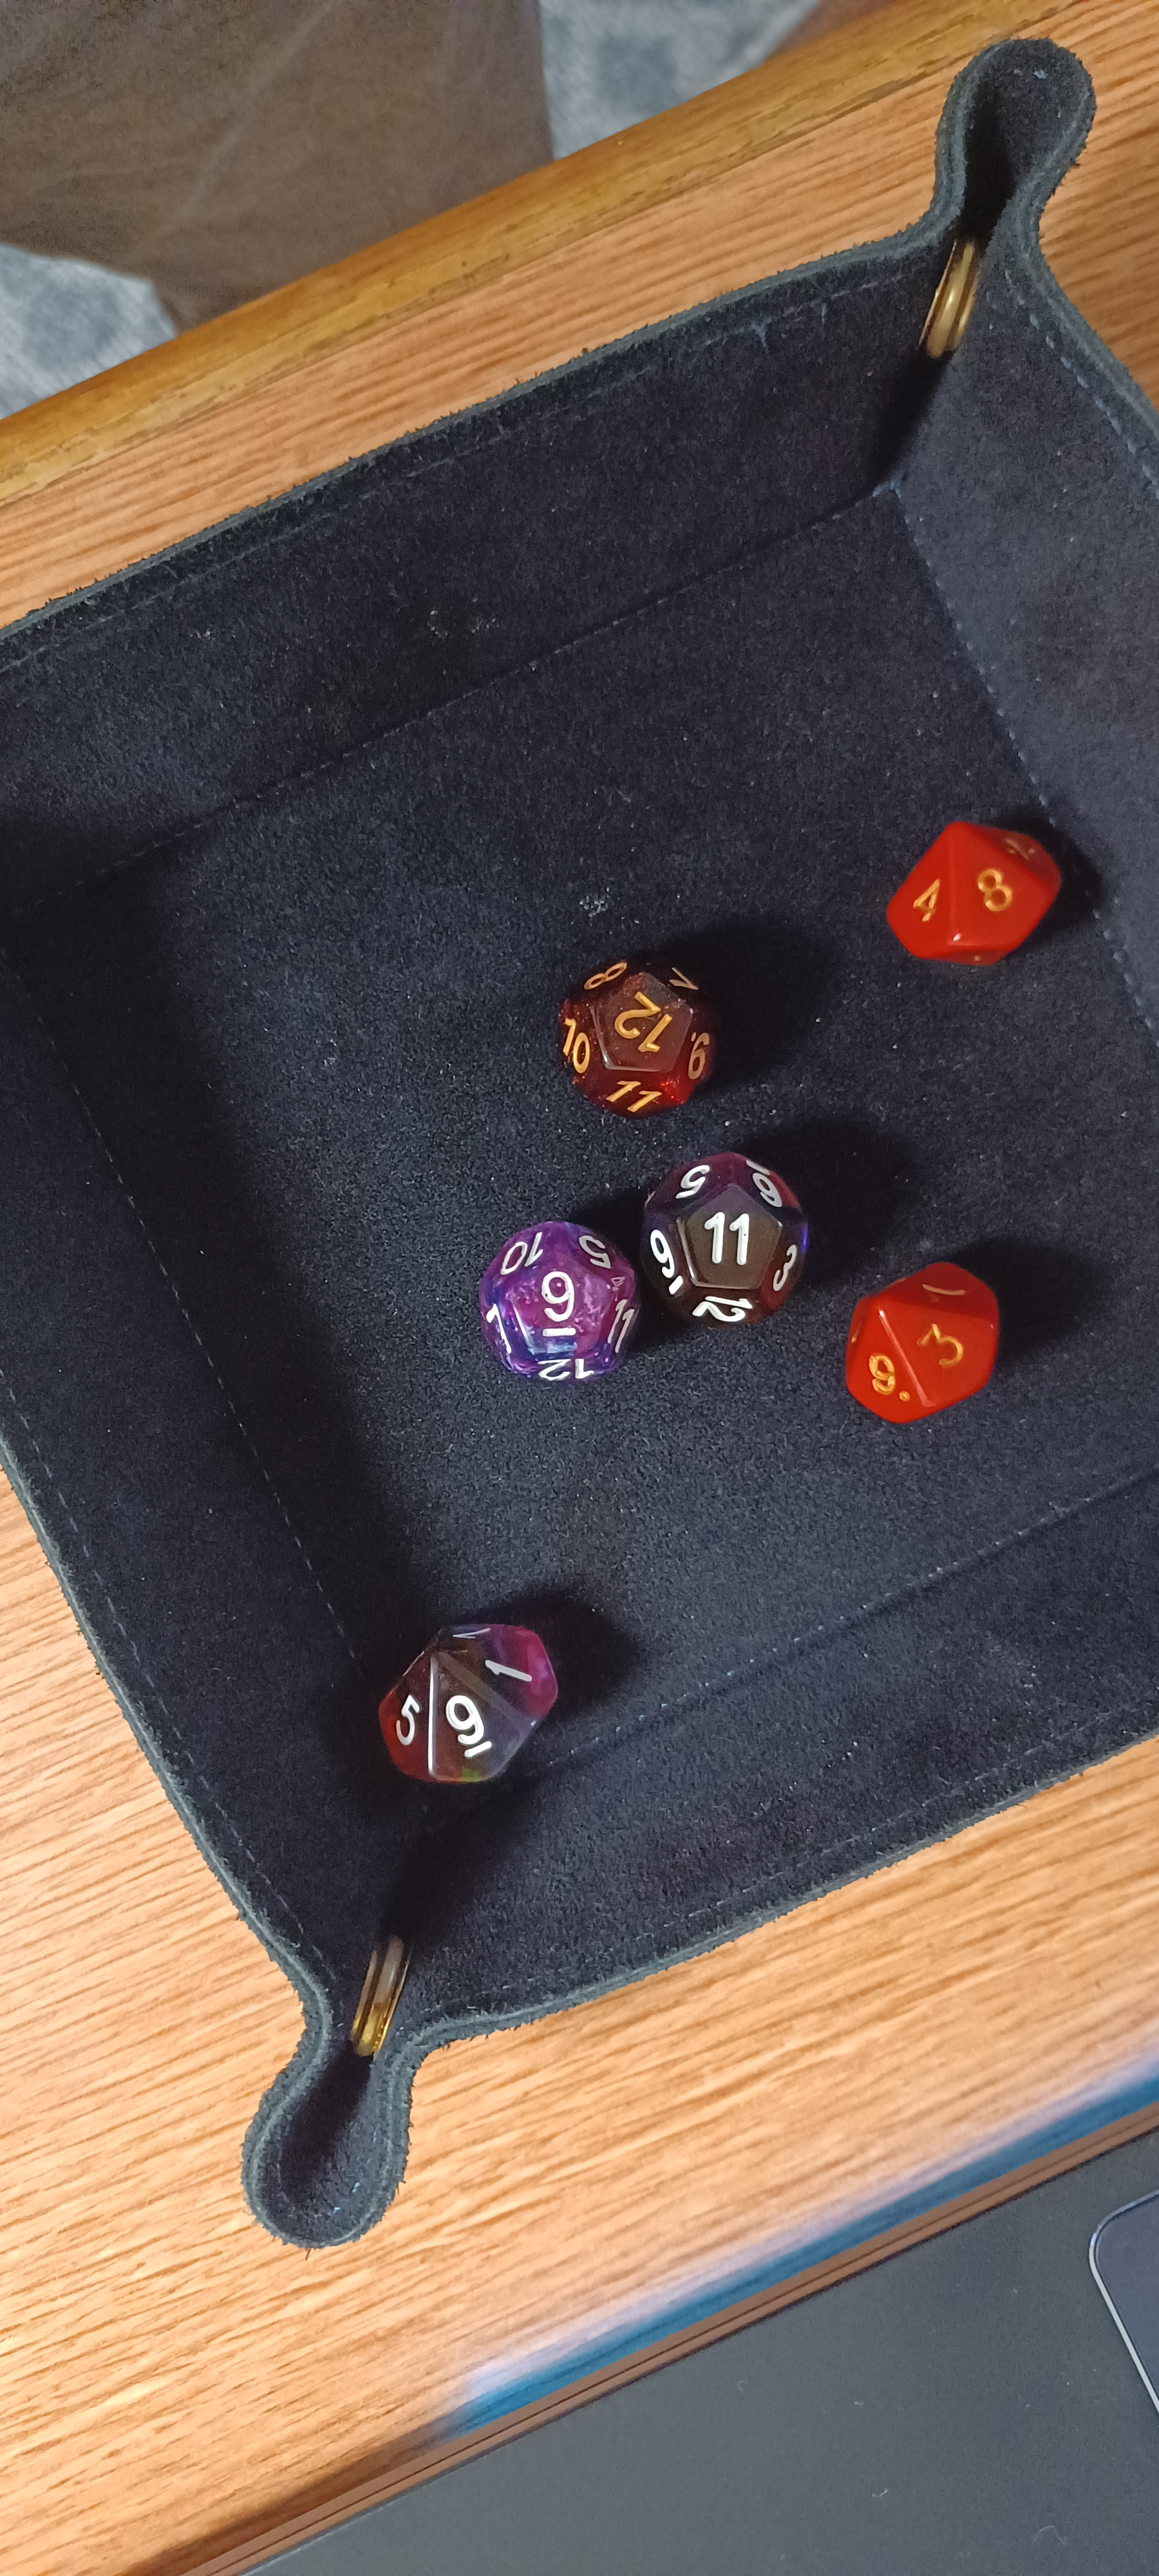eight: (857, 787, 1082, 999)
eleven: (619, 1135, 824, 1344)
nine: (348, 1584, 589, 1814), (440, 1198, 665, 1405)
three: (831, 1244, 1049, 1452)
twelve: (525, 922, 752, 1135)
